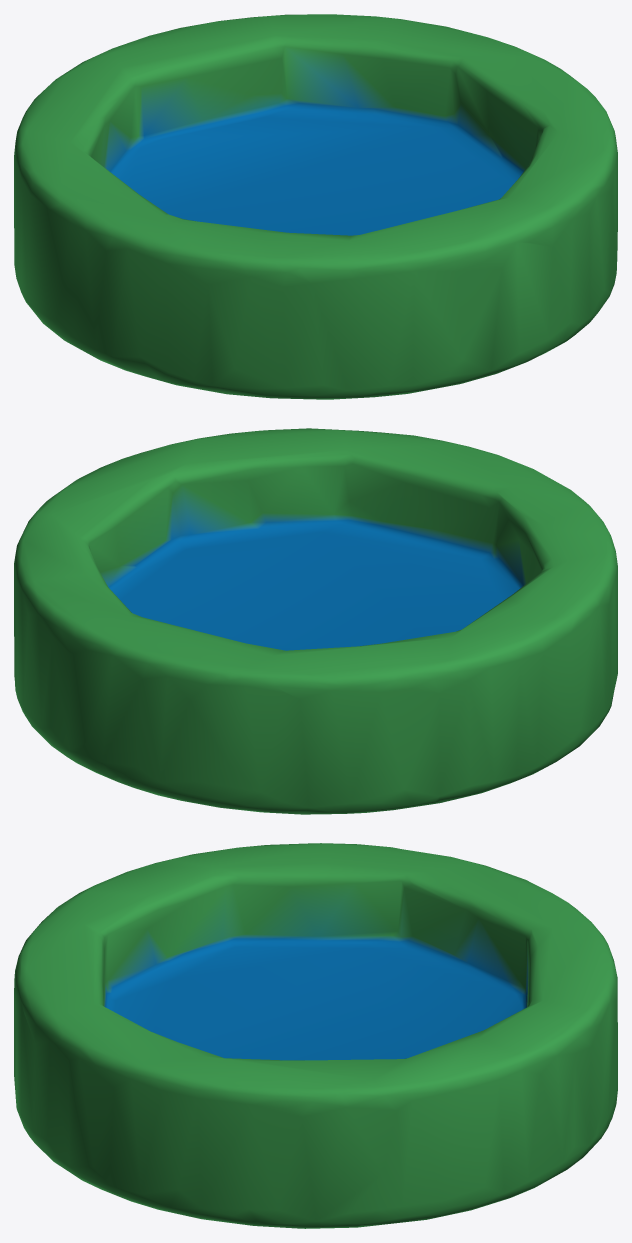
The model's file is gen3d-koi-pond-lod1.glb.
3 renders of one model, top to bottom at view 1: azimuth 30°, elevation 25°; view 2: azimuth 150°, elevation 25°; view 3: azimuth 270°, elevation 25°, orthographic.
Visible parts, largest first — view 1: part_0; view 2: part_0; view 3: part_0.
Boxes of the visible parts, x1,y1,x2,y2 form: part_0: [14, 14, 617, 399]; part_0: [14, 428, 617, 814]; part_0: [14, 843, 617, 1228].
Bounding box in the file's own units: 3.84 × 0.9988 × 3.84.
